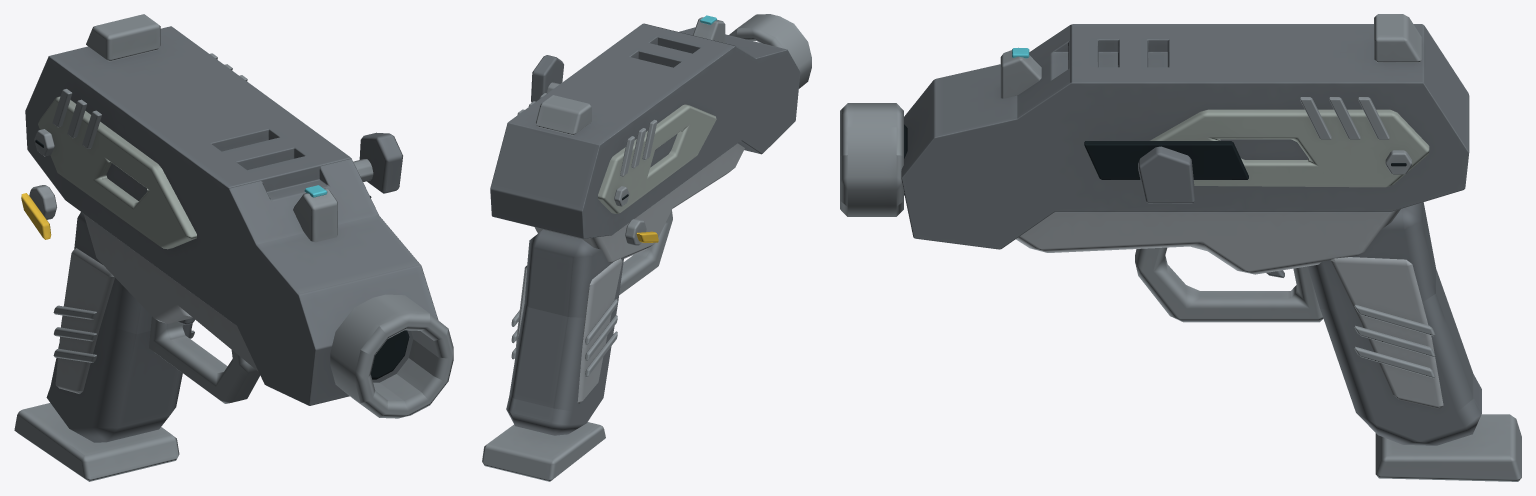
The model's file is pistol.glb.
The picture shows the model from 3 angles, left to right: view 1: azimuth 30°, elevation 25°; view 2: azimuth 150°, elevation 25°; view 3: azimuth 270°, elevation 25°; orthographic projection. The views are drawn at different scales.
Visible parts, largest first — view 1: pistol-ka12-arsenal; view 2: pistol-ka12-arsenal; view 3: pistol-ka12-arsenal.
Part boxes in pixels (x1=…): pistol-ka12-arsenal: x1=14, y1=14, x2=453, y2=481; pistol-ka12-arsenal: x1=482, y1=14, x2=811, y2=481; pistol-ka12-arsenal: x1=840, y1=14, x2=1521, y2=481.
Bounding box in the file's own units: 0.3435 × 0.5798 × 0.8219.
1 material, 1 textured.
